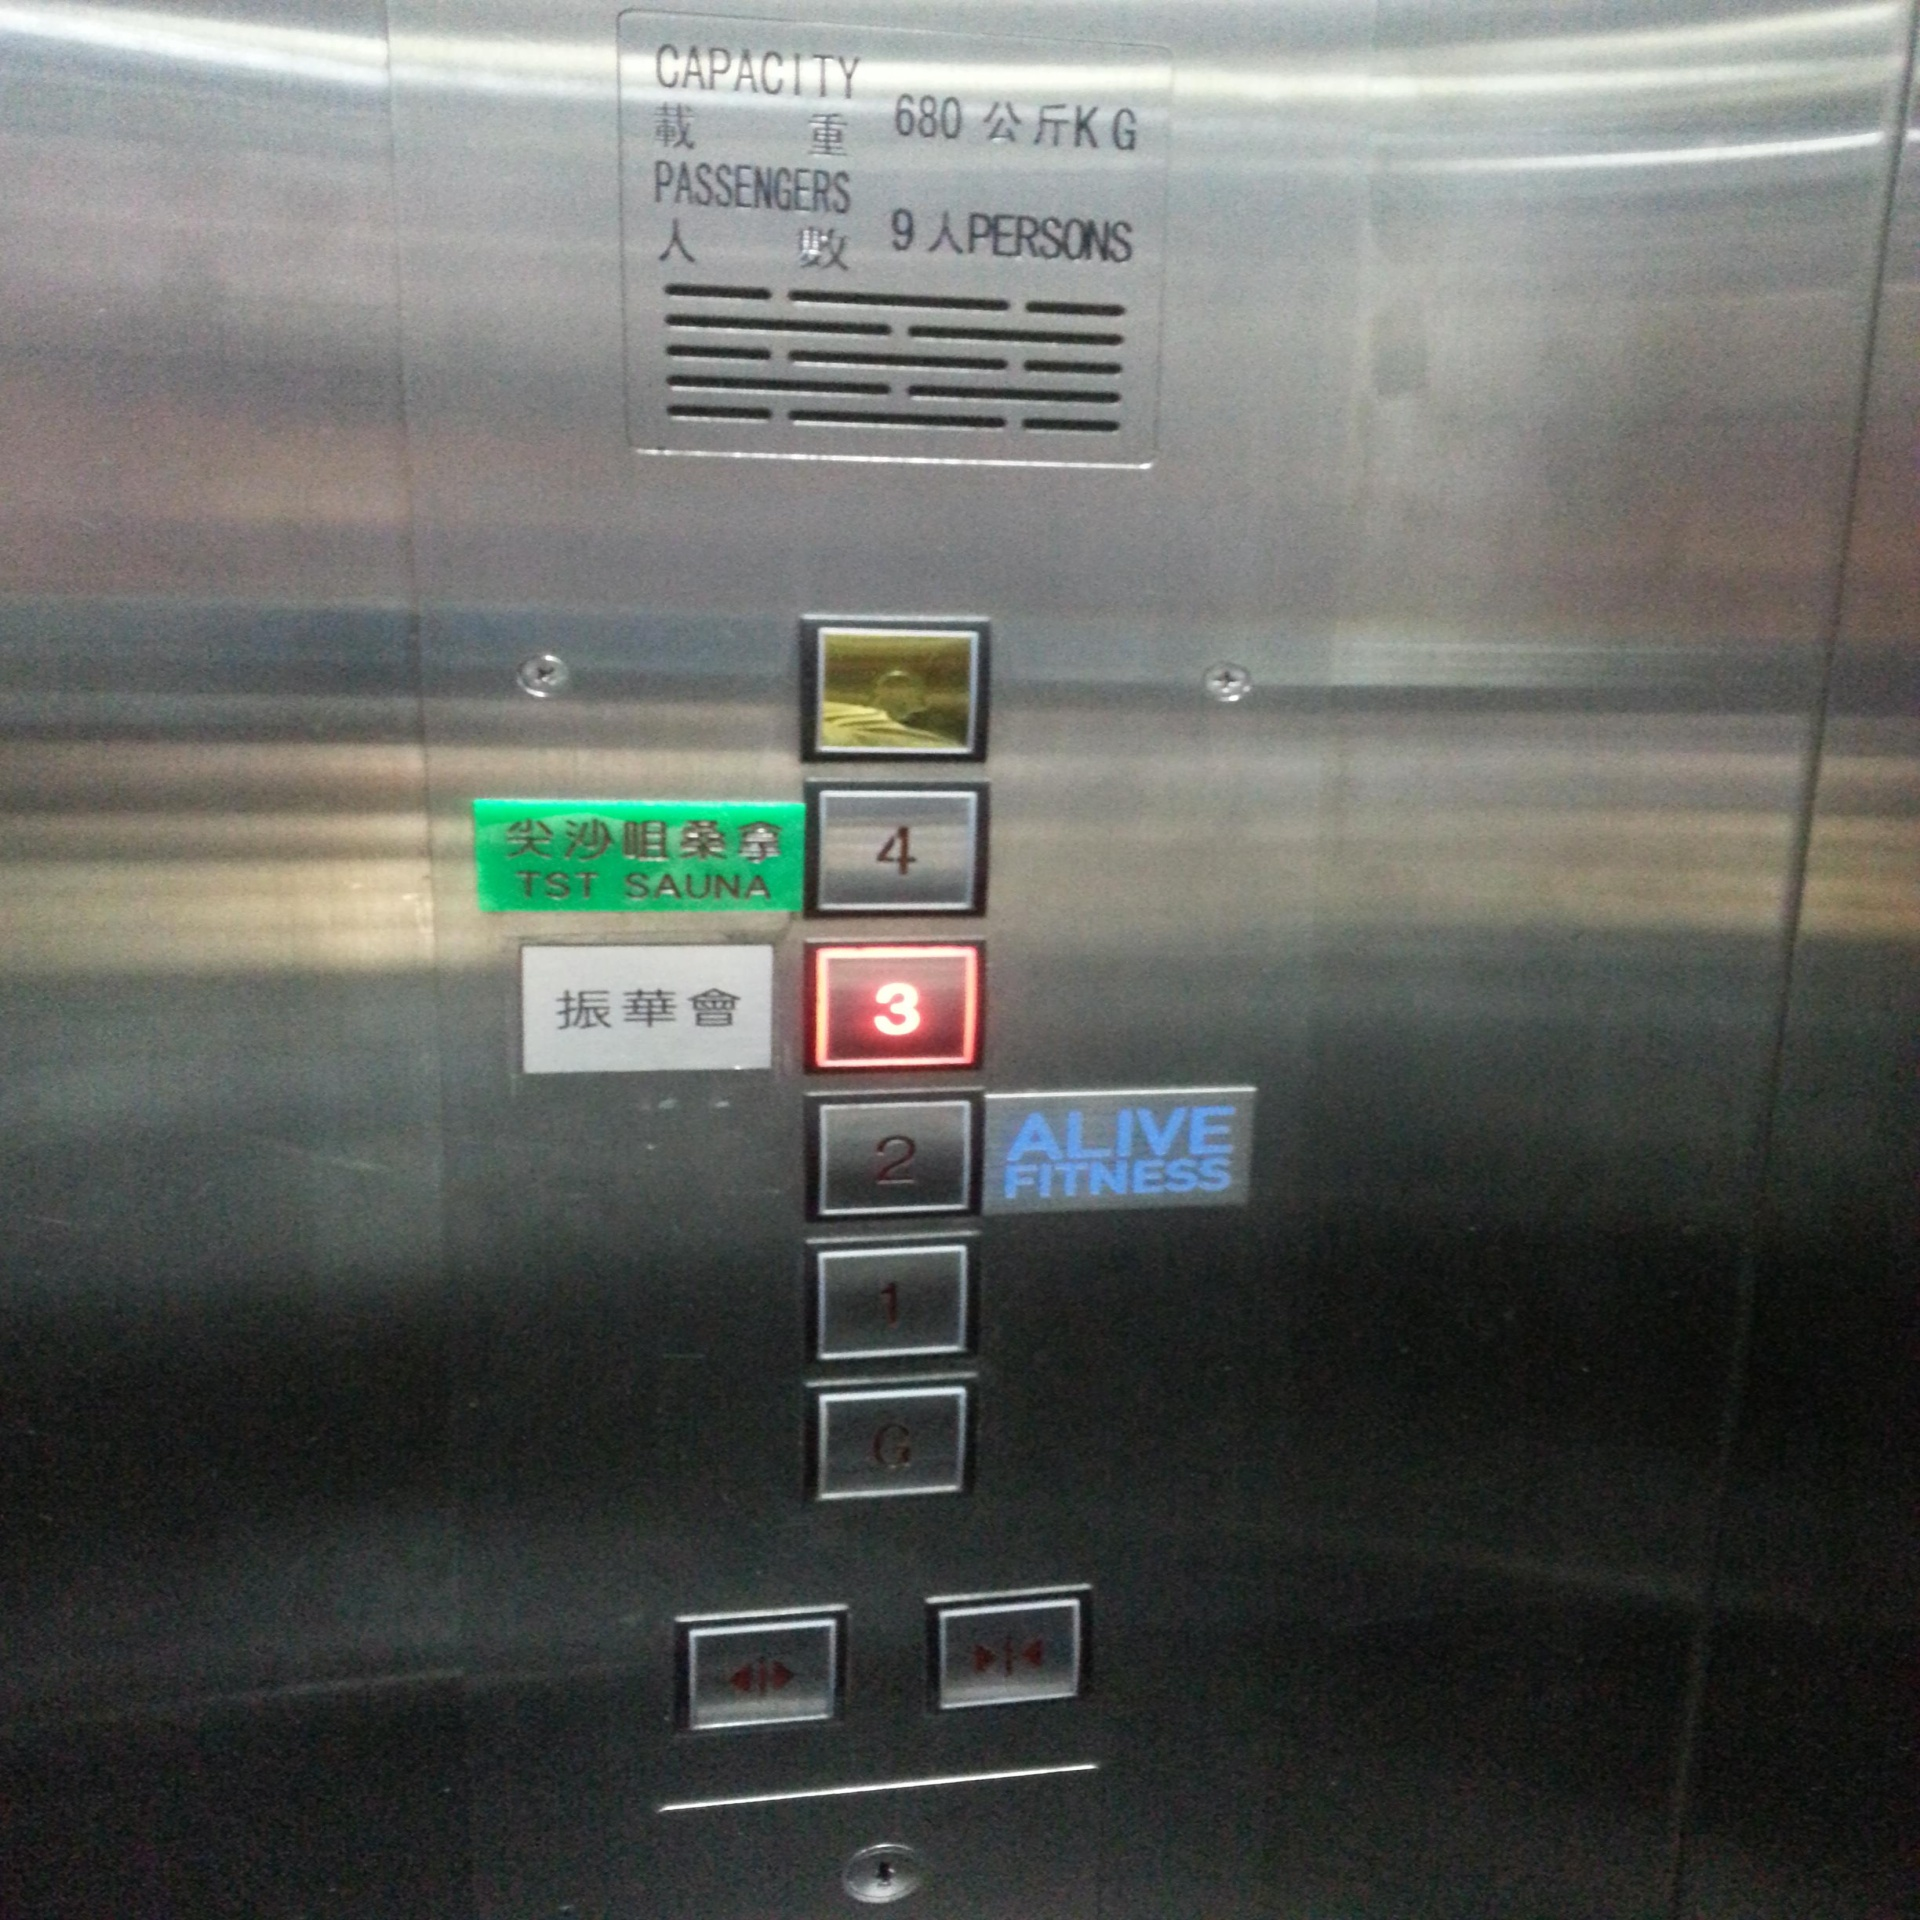1: (796, 1229, 992, 1371)
2: (795, 1087, 992, 1231)
3: (795, 934, 993, 1085)
4: (795, 775, 997, 927)
G: (798, 1371, 985, 1514)
alarm: (786, 607, 999, 770)
close: (914, 1575, 1101, 1727)
keyhole: (835, 1830, 934, 1915)
open: (665, 1596, 855, 1742)
